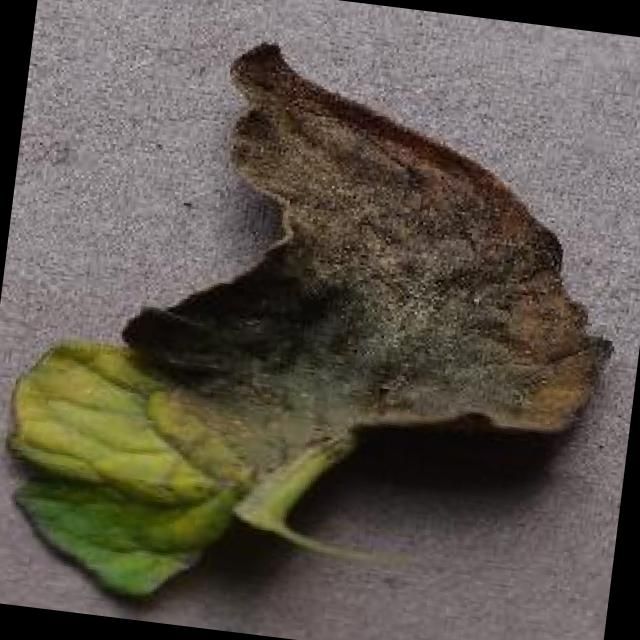Tomato_Late_Blight: (130, 34, 640, 509)
